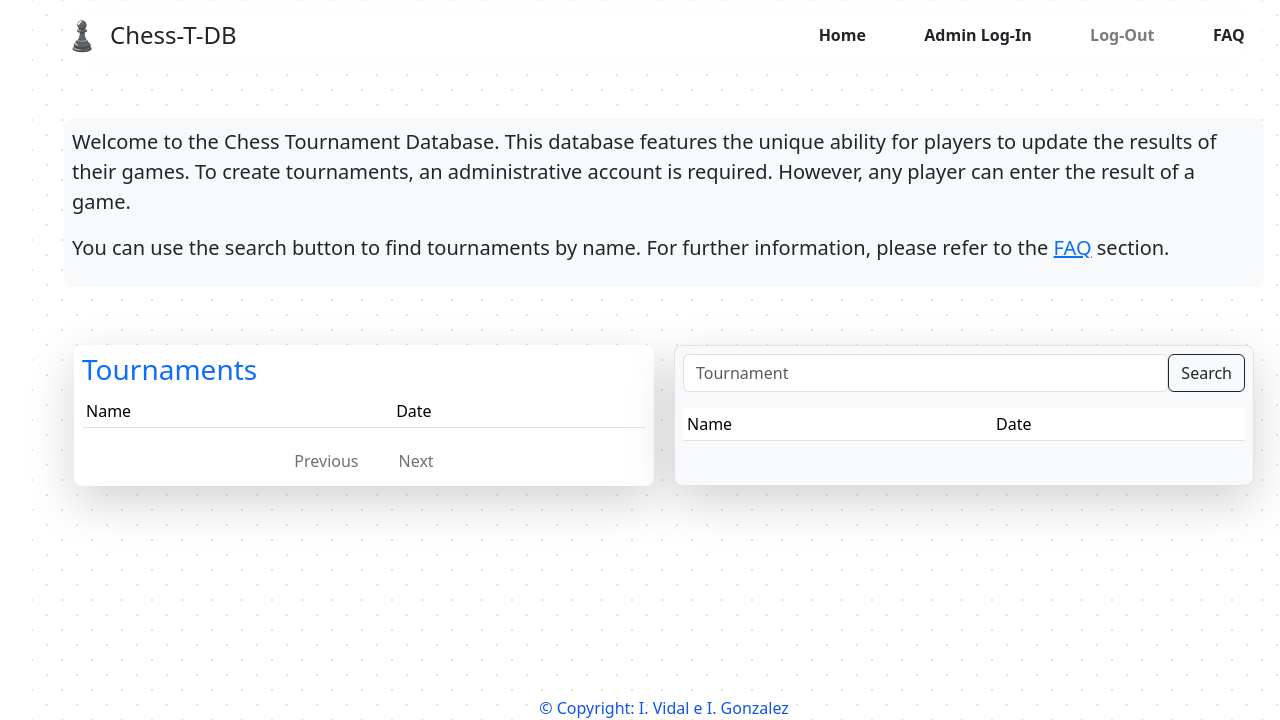
Scenario: Login Test › When Log-in, display an error message if incorrect credentials are provided
Note: go to log page
Click the link with test id "login-cypress-test": coordinates (978, 35) [924,24,1031,46]
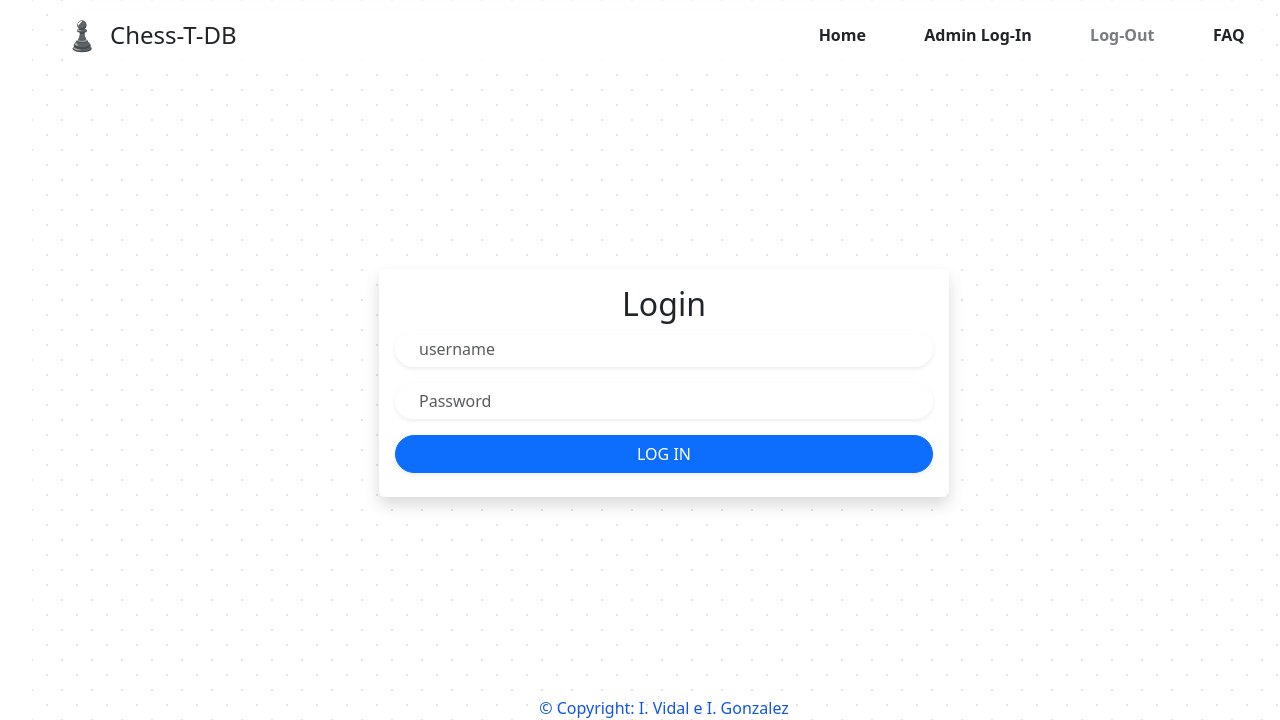
Note: Fill in the login form with incorrect credentials
In the field with test id "username": coordinates (664, 349) [395,331,933,367], type "alumnodb"
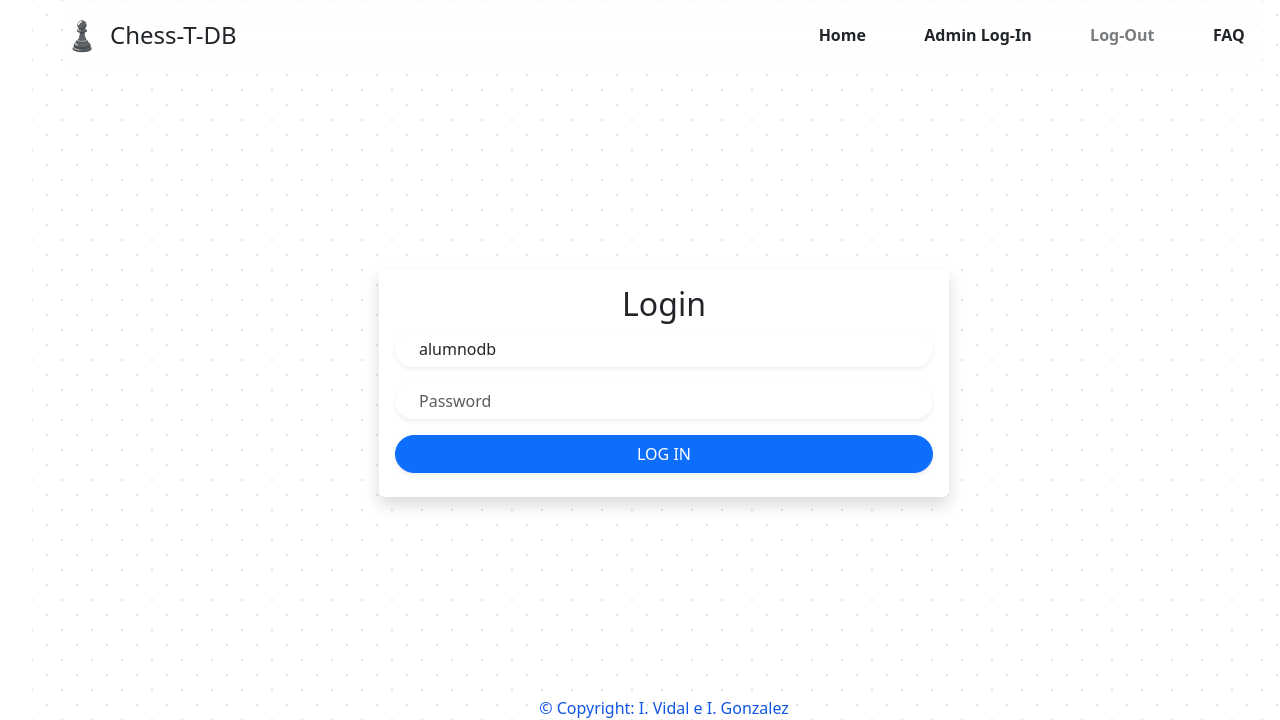
In the password field with test id "password": coordinates (664, 401) [395,383,933,419], type "incorrectPAssword"
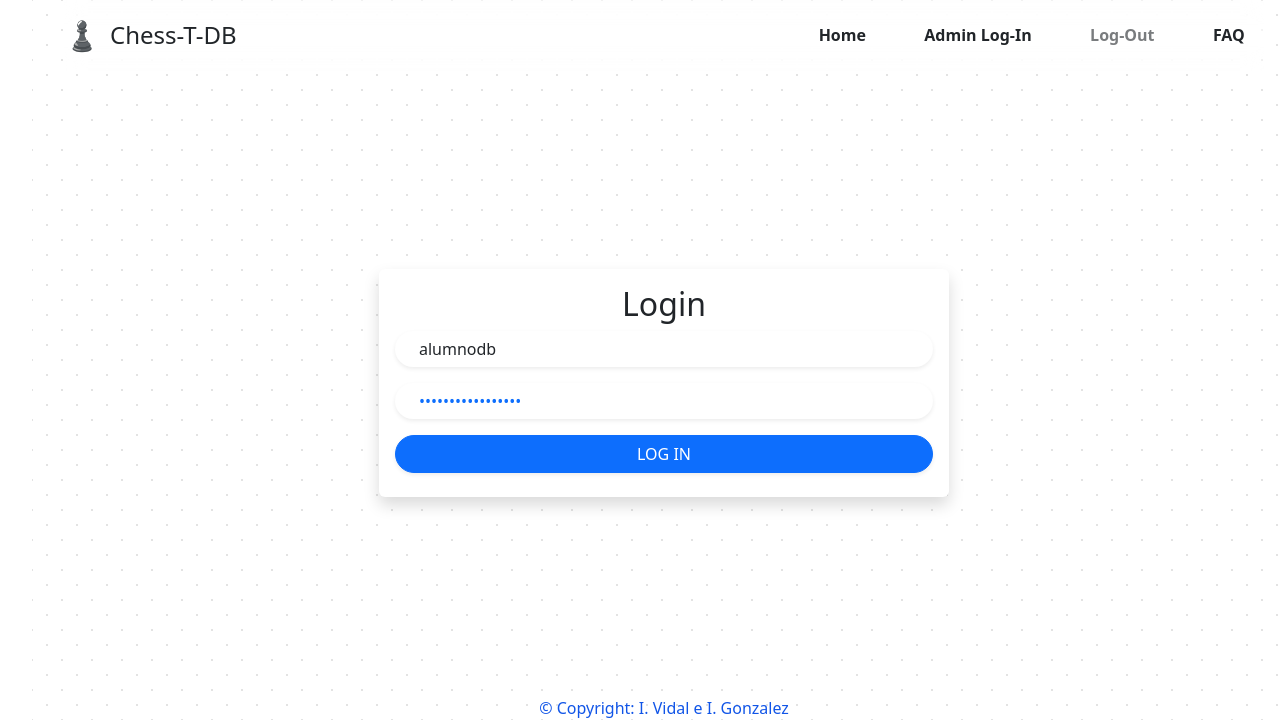
Note: Click the login button
Click the button with test id "login-button": coordinates (664, 454) [395,435,933,473]
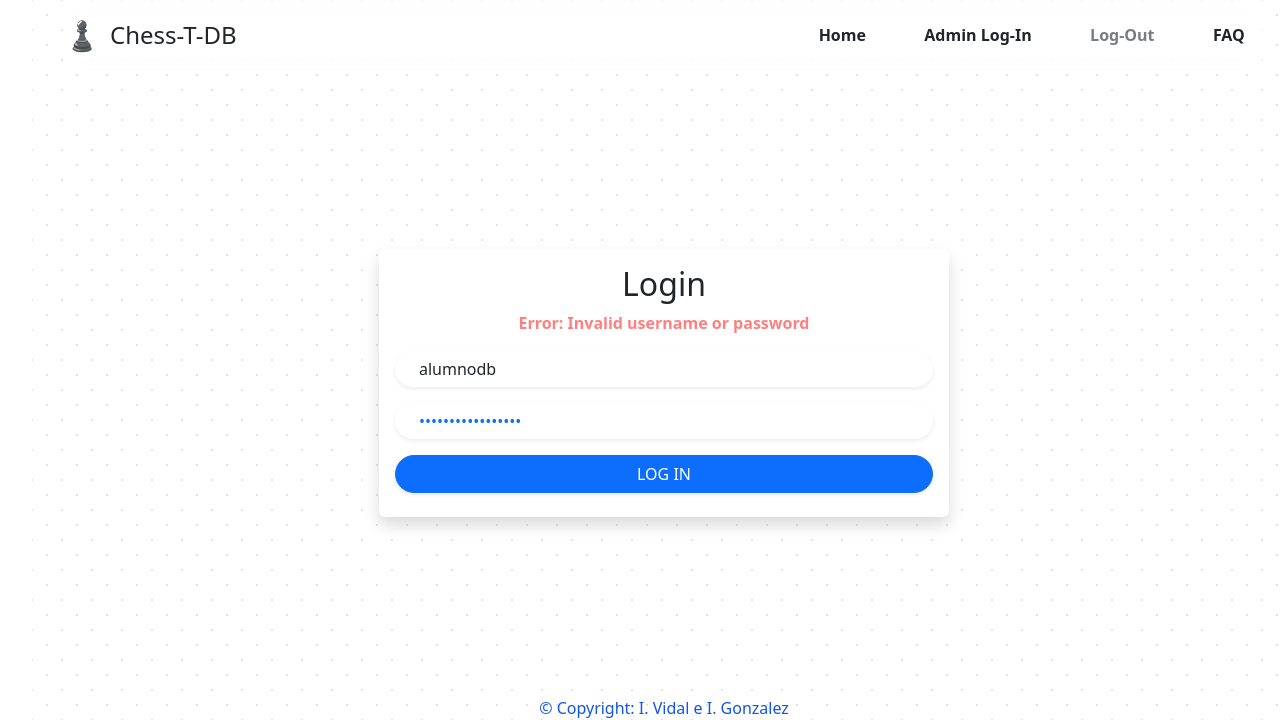
Check: the text "Error: Invalid username or password" is shown, box [518,312,810,334]
